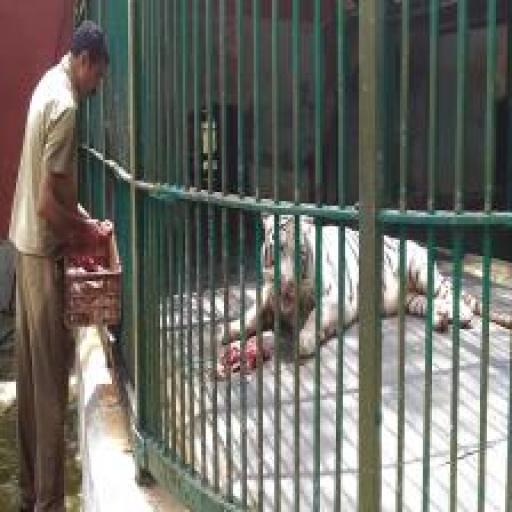Tiger: (217, 201, 512, 359)
